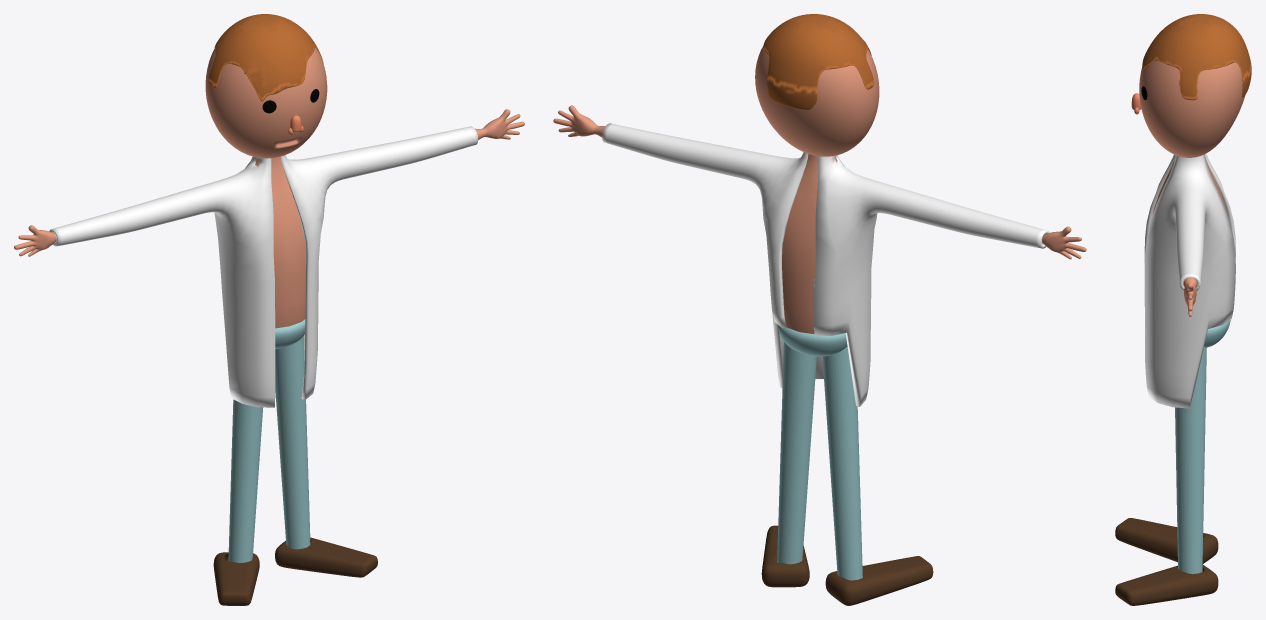
Rendered from CHARACTER.fbx.
3 views of the same model, side by side, from view 1: azimuth 30°, elevation 25°; view 2: azimuth 150°, elevation 25°; view 3: azimuth 270°, elevation 25° (orthographic). The views are drawn at different scales.
Visible parts, largest first — view 1: Cube.003, Cube.001, Sphere, Cube, Sphere.001, Plane; view 2: Cube.003, Cube.001, Sphere, Sphere.001, Cube, Plane; view 3: Cube.003, Sphere, Cube.001, Sphere.001, Plane, Cube.
Part boxes in pixels (x1,y1,x2,y2): Cube.003: (49, 126, 478, 407); Cube.001: (228, 319, 310, 562); Sphere: (205, 47, 327, 158); Cube: (14, 109, 524, 328); Sphere.001: (209, 14, 323, 101); Plane: (213, 537, 377, 605); Cube.003: (602, 123, 1049, 406); Cube.001: (777, 325, 862, 580); Sphere: (755, 45, 879, 156); Sphere.001: (763, 14, 874, 109); Cube: (553, 105, 1086, 334); Plane: (761, 525, 933, 605); Cube.003: (1144, 153, 1235, 408); Sphere: (1139, 60, 1245, 157); Cube.001: (1175, 320, 1230, 574); Sphere.001: (1142, 14, 1251, 100); Plane: (1115, 518, 1218, 605); Cube: (1152, 157, 1227, 316).
Size of the model in its own units: 160 by 165 by 36.76.
